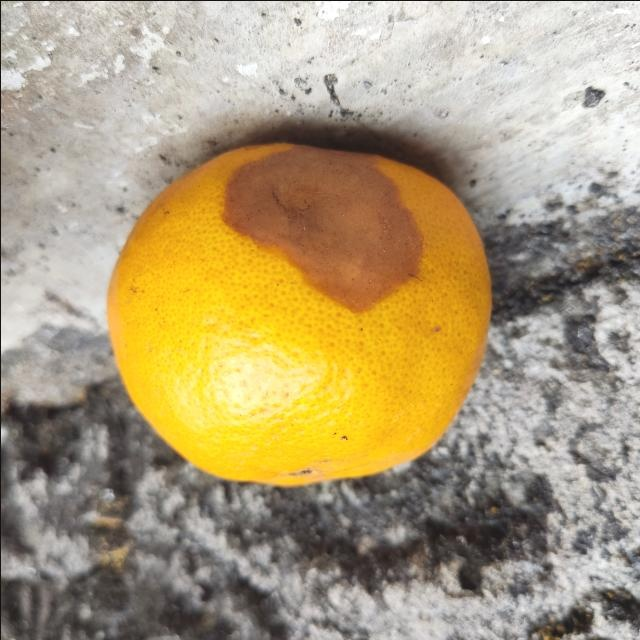agrume: (105, 140, 491, 488)
